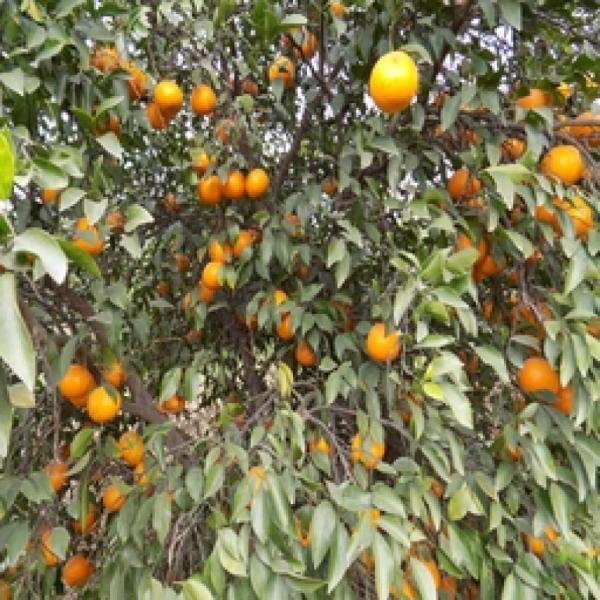Sana: (362, 47, 423, 116), (532, 188, 594, 236), (534, 140, 592, 190), (516, 354, 562, 404), (345, 422, 394, 466), (363, 316, 406, 366), (68, 215, 107, 261), (88, 386, 127, 431), (556, 376, 594, 422), (86, 44, 128, 82), (53, 364, 96, 398), (59, 551, 98, 588), (35, 524, 71, 564), (445, 166, 486, 201), (99, 348, 132, 390), (197, 255, 233, 292), (116, 428, 148, 468), (219, 162, 252, 200), (193, 170, 227, 206), (41, 458, 75, 494), (188, 78, 221, 115), (204, 228, 234, 266), (121, 66, 155, 99), (245, 166, 276, 202), (99, 480, 130, 516), (155, 80, 185, 116), (70, 497, 100, 533), (302, 433, 338, 463), (291, 338, 327, 367), (230, 228, 260, 262), (133, 462, 165, 493), (274, 311, 306, 342), (145, 102, 172, 132)
